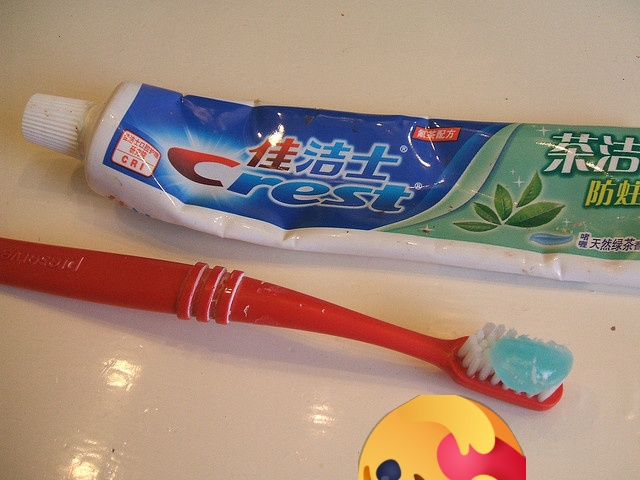care: (358, 395, 526, 480)
